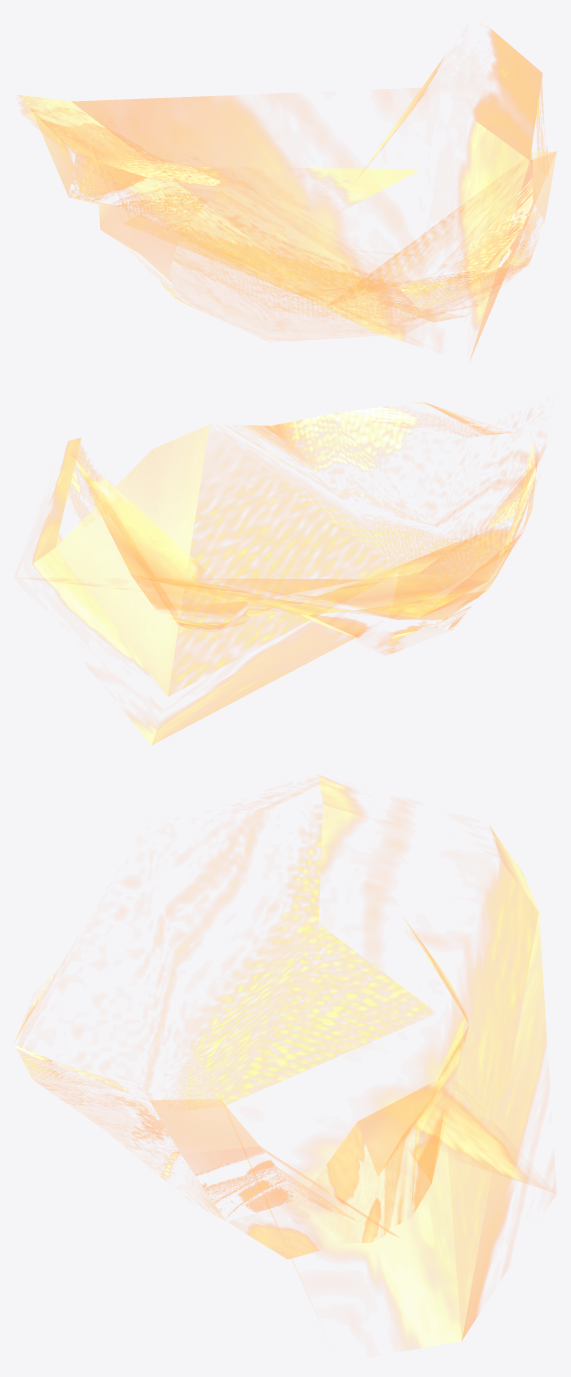
File: butterfly.gltf
3 renders of one model, top to bottom at view 1: azimuth 30°, elevation 25°; view 2: azimuth 150°, elevation 25°; view 3: azimuth 270°, elevation 25°, orthographic. The views are drawn at different scales.
Parts seen in each view (by area): view 1: name0; view 2: name0; view 3: name0.
Boxes of the visible parts, x1,y1,x2,y2 form: name0: (19,29,556,360); name0: (26,402,545,744); name0: (14,775,555,1350).
Bounding box in the file's own units: 0.2459 × 0.1717 × 0.2215.
Materials: 1 (1 with a texture image).
